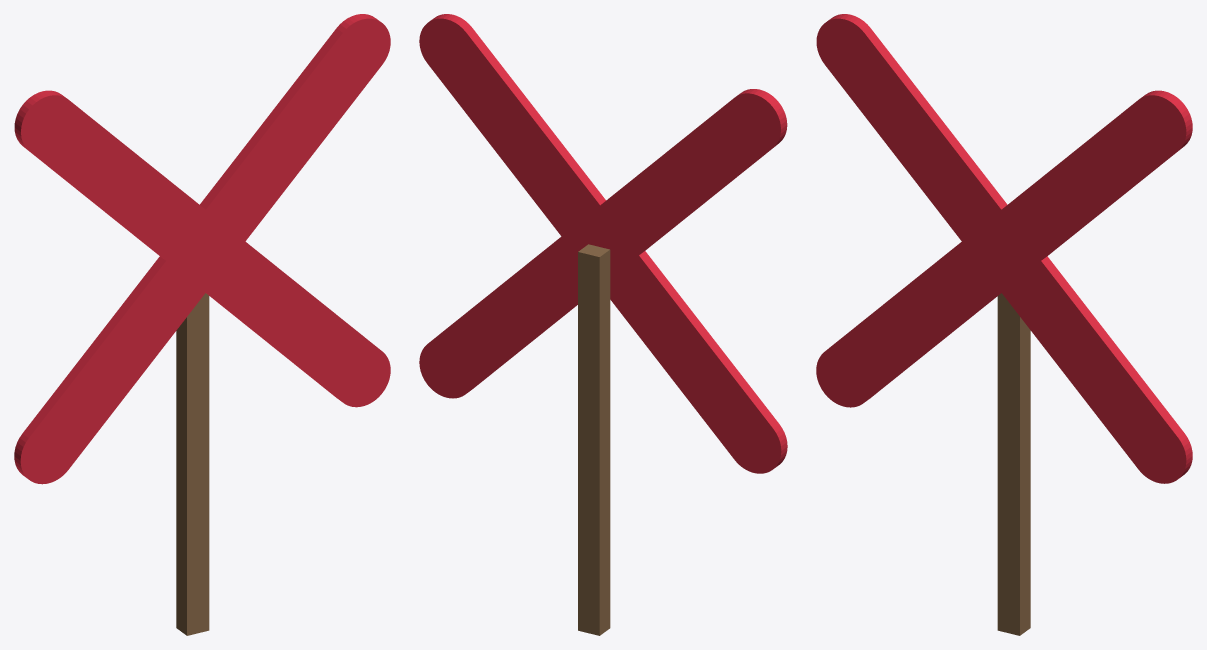
File: erreur.glb
3 renders of one model, left to right at view 1: azimuth 30°, elevation 25°; view 2: azimuth 150°, elevation 25°; view 3: azimuth 330°, elevation 25°, orthographic. The views are drawn at different scales.
Size of the model in its own units: 1 by 1.5 by 0.085.
